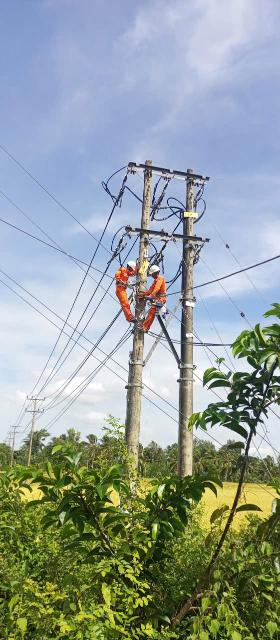gloves: (134, 293, 142, 300), (144, 296, 152, 300)
harness: (116, 281, 136, 290), (154, 293, 168, 298)
helmet: (146, 261, 165, 277), (124, 258, 139, 273)
shoes: (138, 323, 148, 333), (130, 315, 138, 322)
